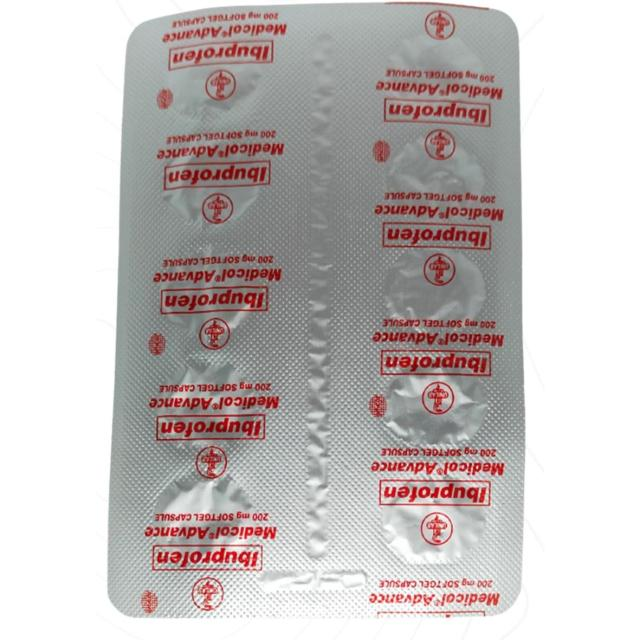blister: (98, 5, 533, 631)
